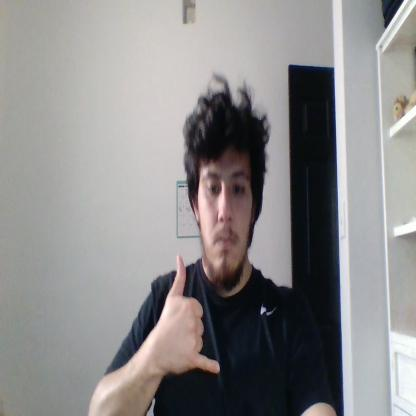Y: (160, 256, 219, 375)
